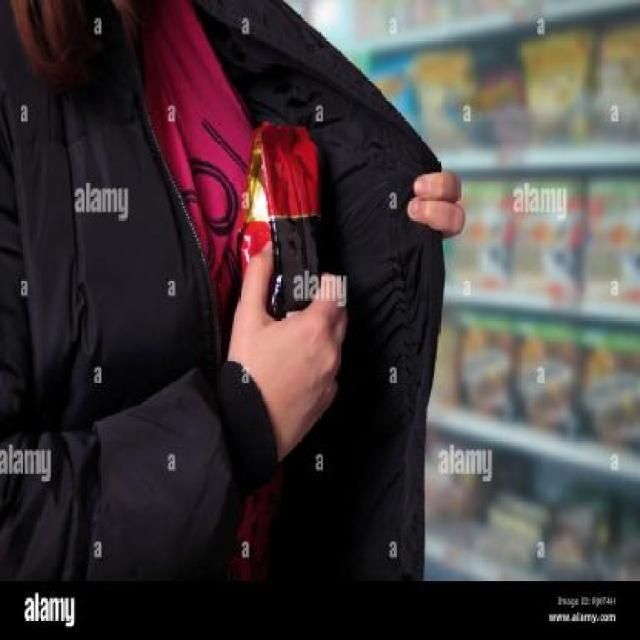Shoplifting: (126, 56, 509, 578)
